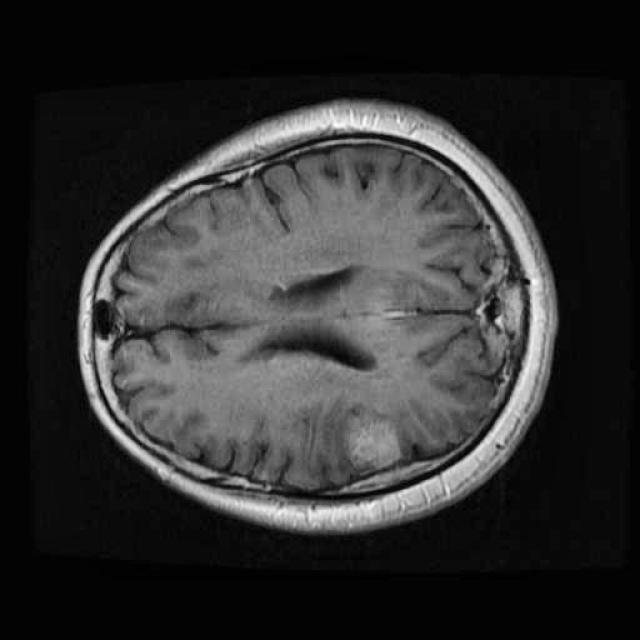Tumor: (331, 401, 414, 481)
